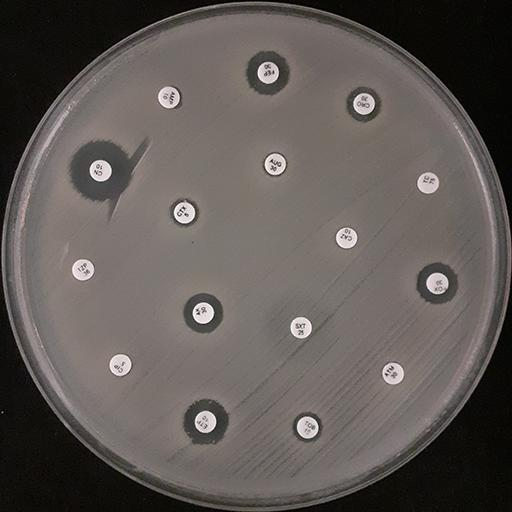disc: (256, 61, 280, 85), (89, 159, 113, 183), (381, 361, 405, 385), (157, 86, 181, 109), (289, 316, 313, 339), (108, 353, 132, 376), (264, 153, 287, 176), (173, 201, 196, 224), (335, 226, 358, 249), (71, 258, 94, 281), (296, 415, 319, 438), (194, 410, 217, 433), (352, 93, 376, 115), (192, 302, 216, 324), (425, 272, 449, 294), (417, 172, 440, 194)
